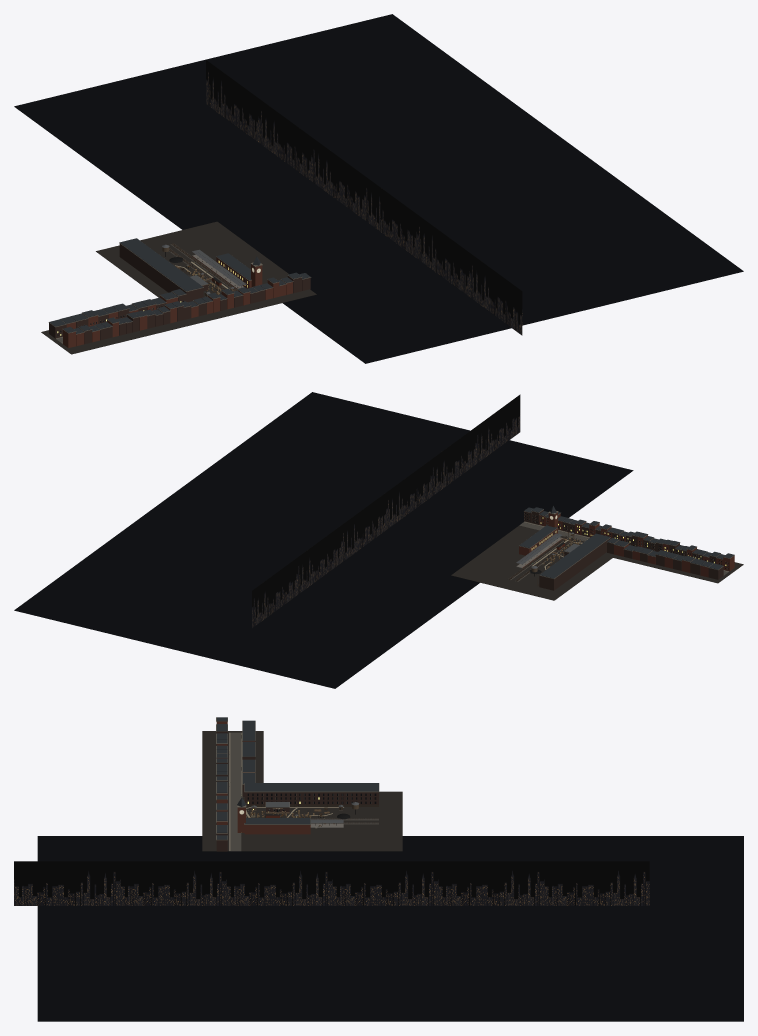
Rendered from hoboken_yard.glb.
3 views of the same model, one above another, from view 1: azimuth 30°, elevation 25°; view 2: azimuth 150°, elevation 25°; view 3: azimuth 270°, elevation 25° (orthographic). The views are drawn at different scales.
Parts seen in each view (by area): view 1: River, Skyline, Yard_Ground-col, RowHouses, Warehouses, NorthFronts, Station-col; view 2: River, Skyline, Yard_Ground-col, RowHouses, NorthFronts, Warehouses, Station-col; view 3: River, Skyline, Yard_Ground-col, Warehouses, RowHouses, Street-col, Station-col, NorthFronts.
Part boxes in pixels (x1=…): River: x1=14, y1=14, x2=743, y2=363; Skyline: x1=206, y1=60, x2=522, y2=335; Yard_Ground-col: x1=41, y1=221, x2=316, y2=354; RowHouses: x1=62, y1=272, x2=311, y2=347; Warehouses: x1=119, y1=238, x2=203, y2=302; NorthFronts: x1=48, y1=289, x2=186, y2=338; Station-col: x1=216, y1=253, x2=262, y2=288; River: x1=14, y1=392, x2=633, y2=688; Skyline: x1=252, y1=394, x2=520, y2=628; Yard_Ground-col: x1=451, y1=521, x2=743, y2=600; RowHouses: x1=524, y1=507, x2=734, y2=571; NorthFronts: x1=607, y1=538, x2=723, y2=579; Warehouses: x1=539, y1=533, x2=610, y2=590; Station-col: x1=519, y1=505, x2=558, y2=555; River: x1=37, y1=836, x2=743, y2=1021; Skyline: x1=14, y1=861, x2=649, y2=905; Yard_Ground-col: x1=202, y1=731, x2=402, y2=851; Warehouses: x1=244, y1=783, x2=379, y2=805; RowHouses: x1=216, y1=717, x2=227, y2=851; Street-col: x1=229, y1=732, x2=242, y2=851; Station-col: x1=237, y1=797, x2=310, y2=834; NorthFronts: x1=242, y1=720, x2=255, y2=796.
Size of what is drawn, in the model's own units: 582 by 47.3 by 620.
35 materials, 2 textured.
